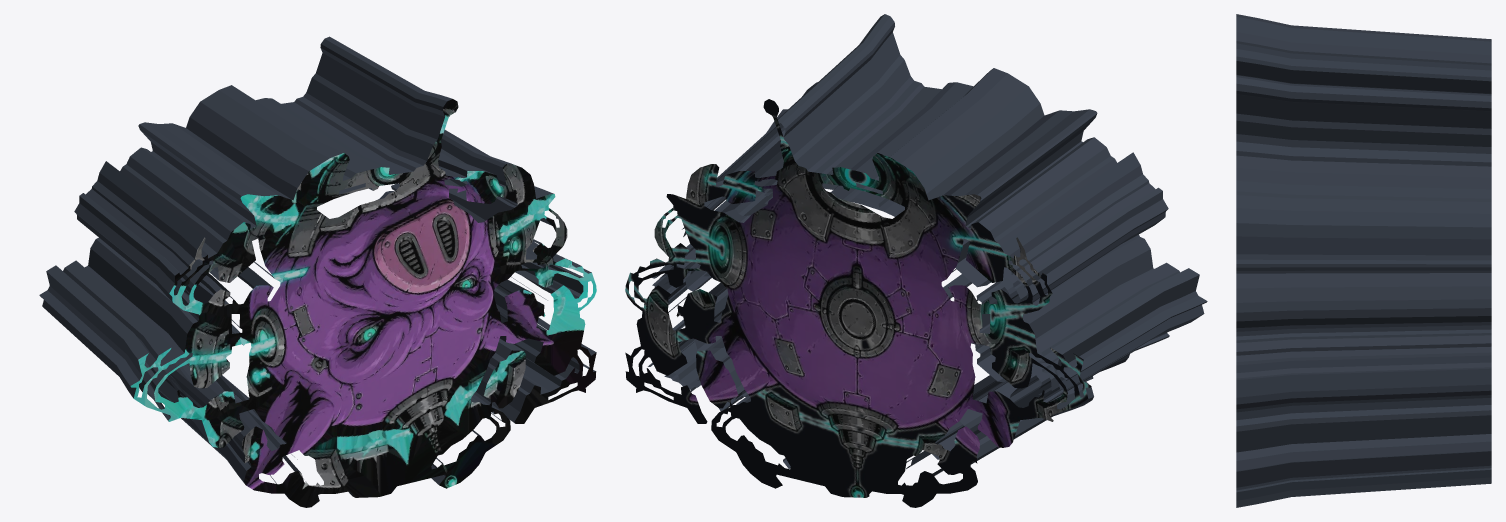
The model's file is boss-3-orbiter.glb.
3 renders of one model, left to right at view 1: azimuth 30°, elevation 25°; view 2: azimuth 150°, elevation 25°; view 3: azimuth 270°, elevation 25°, orthographic. The views are drawn at different scales.
Visible parts, largest first — view 1: RING-BOSS-3-orbiter; view 2: RING-BOSS-3-orbiter; view 3: RING-BOSS-3-orbiter.
Part boxes in pixels (<box>): RING-BOSS-3-orbiter: <box>39,36,596,507</box>; RING-BOSS-3-orbiter: <box>625,14,1207,507</box>; RING-BOSS-3-orbiter: <box>1236,14,1491,507</box>.
Bounding box in the file's own units: 2.51 × 2 × 1.08.
Materials: 3 (2 with a texture image).
